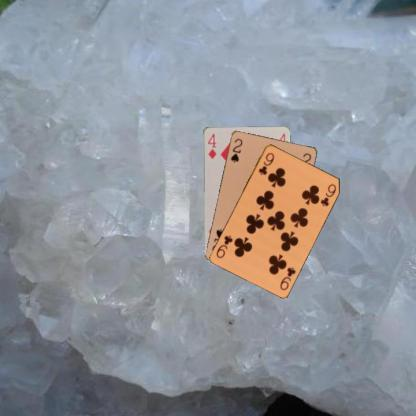2s: (228, 136, 244, 163)
4d: (205, 131, 217, 160)
9c: (277, 264, 297, 291), (256, 150, 276, 176)
